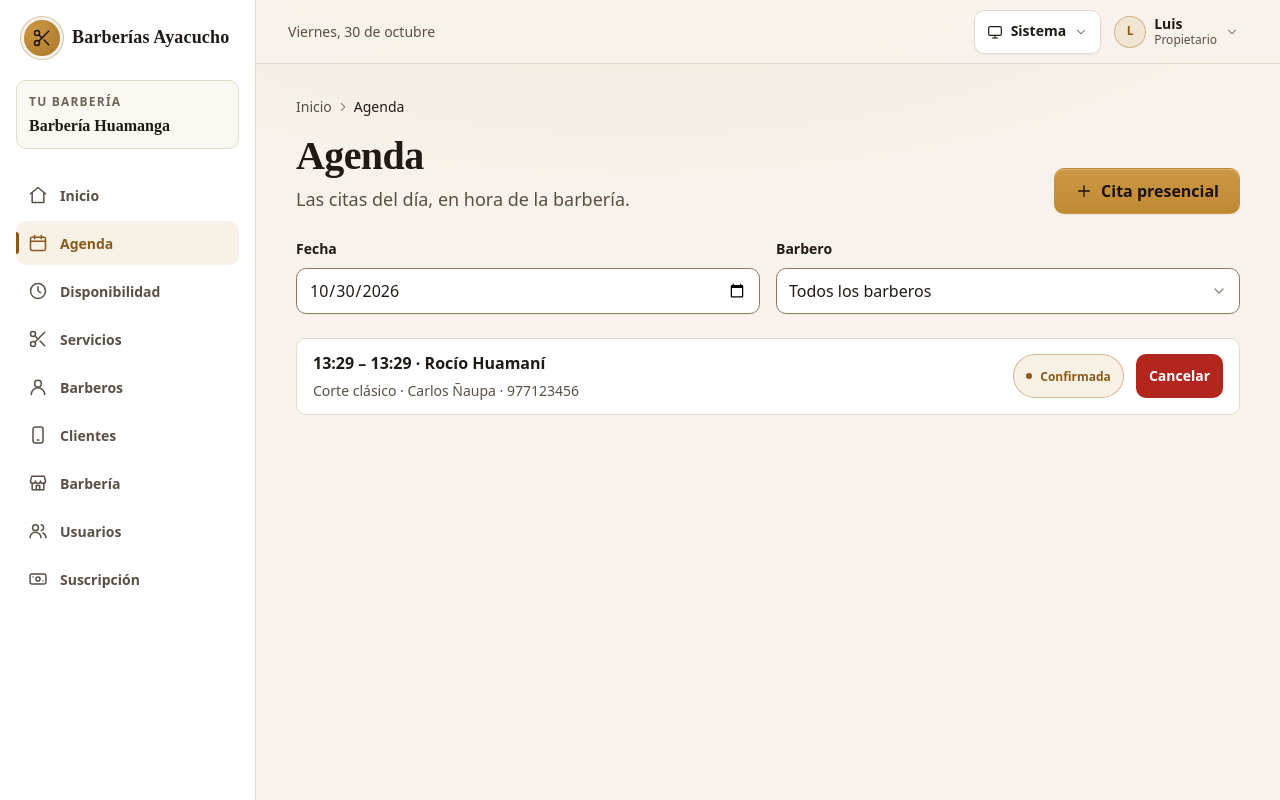
Scenario: Cancelar desde la agenda (propietario) › avisa que no será tardía para el cliente y, tras confirmar, la cita aparece cancelada
What coordinates should you click on to do the following:
click the button "Cancelar"
I would click on:
 (1179, 376)
Its box is [1136,354,1223,398].
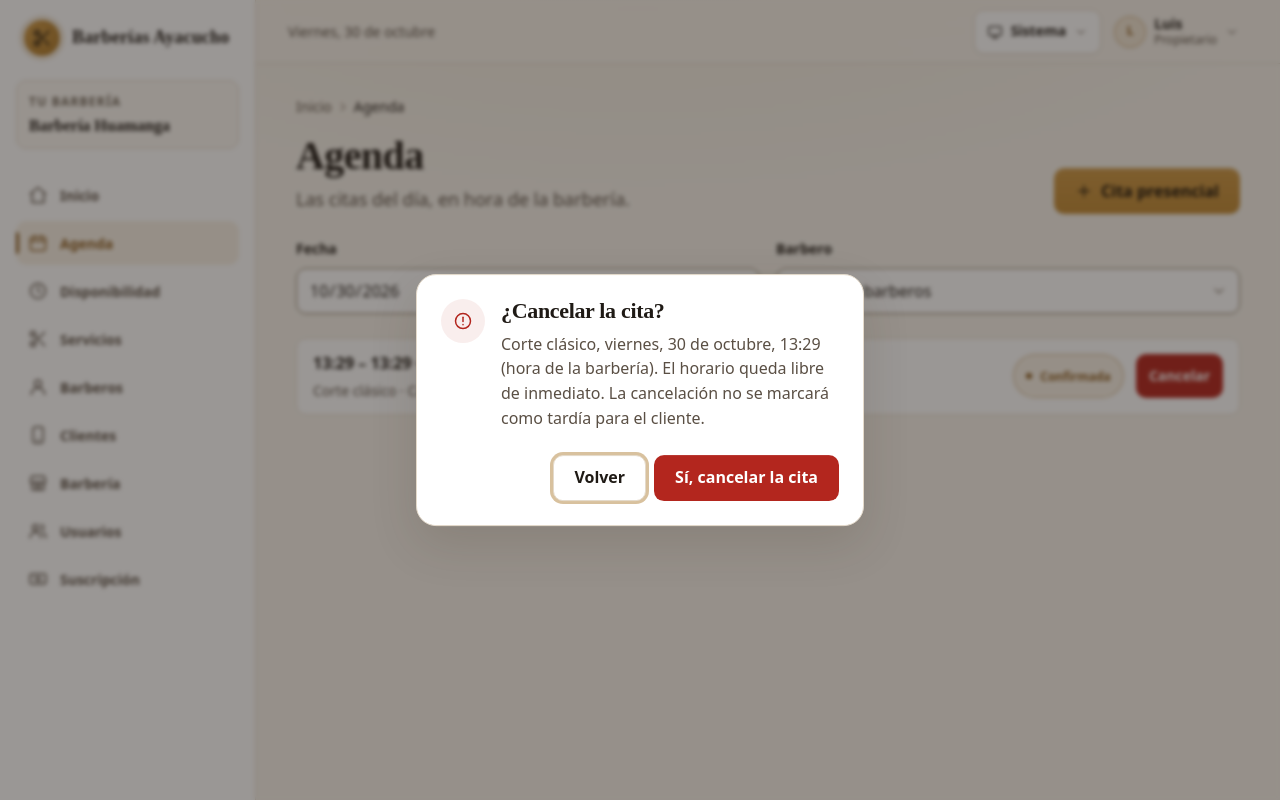
Expected: the dialog shows "no se marcará como tardía", [501,333,829,429]
What coordinates should you click on to do the following:
click the button "Sí, cancelar la cita"
I would click on:
 (747, 478)
Its box is [654,455,839,501].
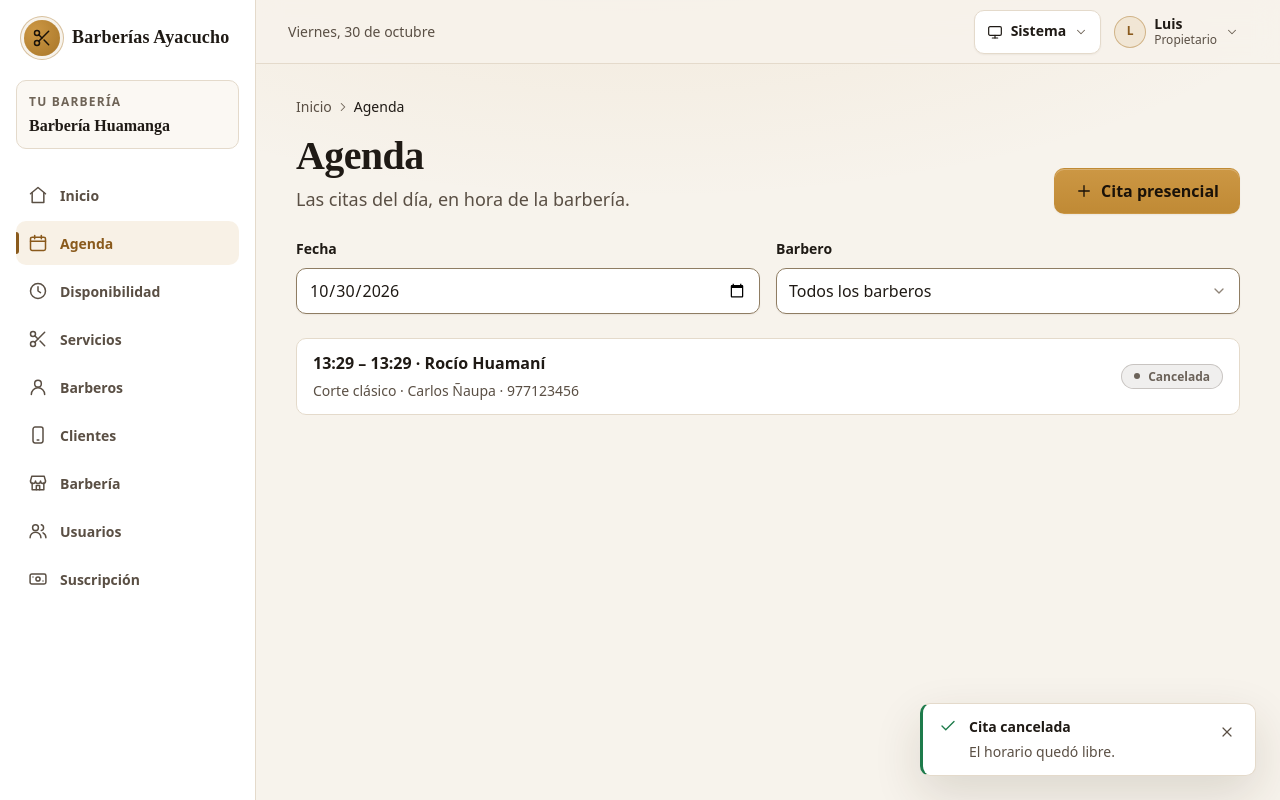
Expected: the text "Cita cancelada" is shown, [969,717,1071,736]
Expected: the text "Cancelada" is shown, [1121,364,1223,389]
Expected: the button "Cancelar" is gone
